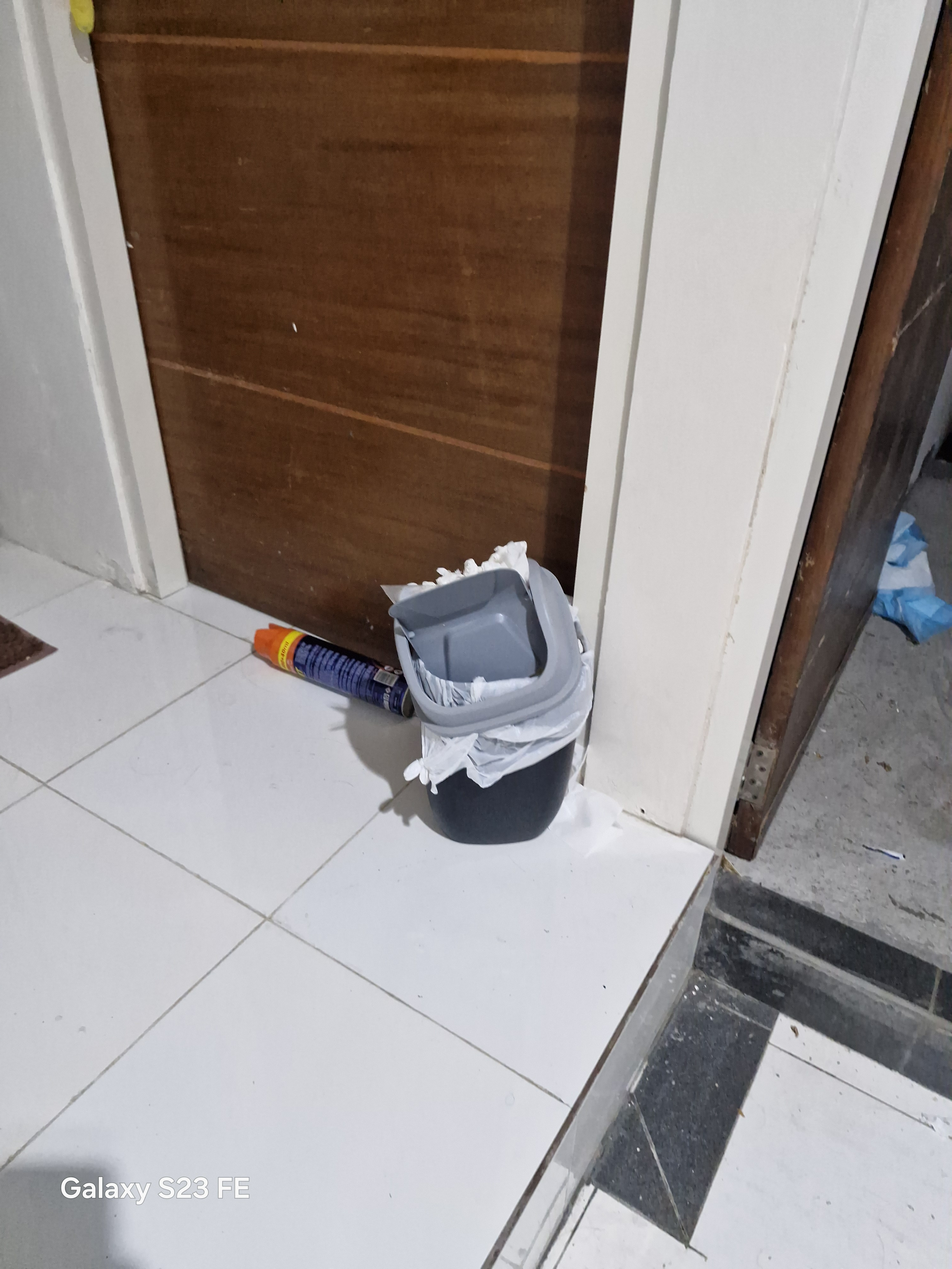bottle: (254, 624, 413, 717)
door-stuff: (95, 0, 635, 609), (749, 0, 951, 876)
floor-other-merged: (0, 546, 951, 1268)
trash-bin: (383, 543, 592, 843)
wall-other-merged: (578, 0, 888, 868), (0, 0, 190, 590)
